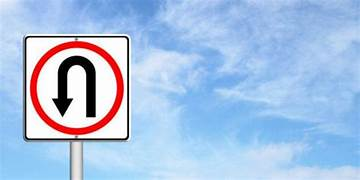back: (28, 40, 122, 137)
